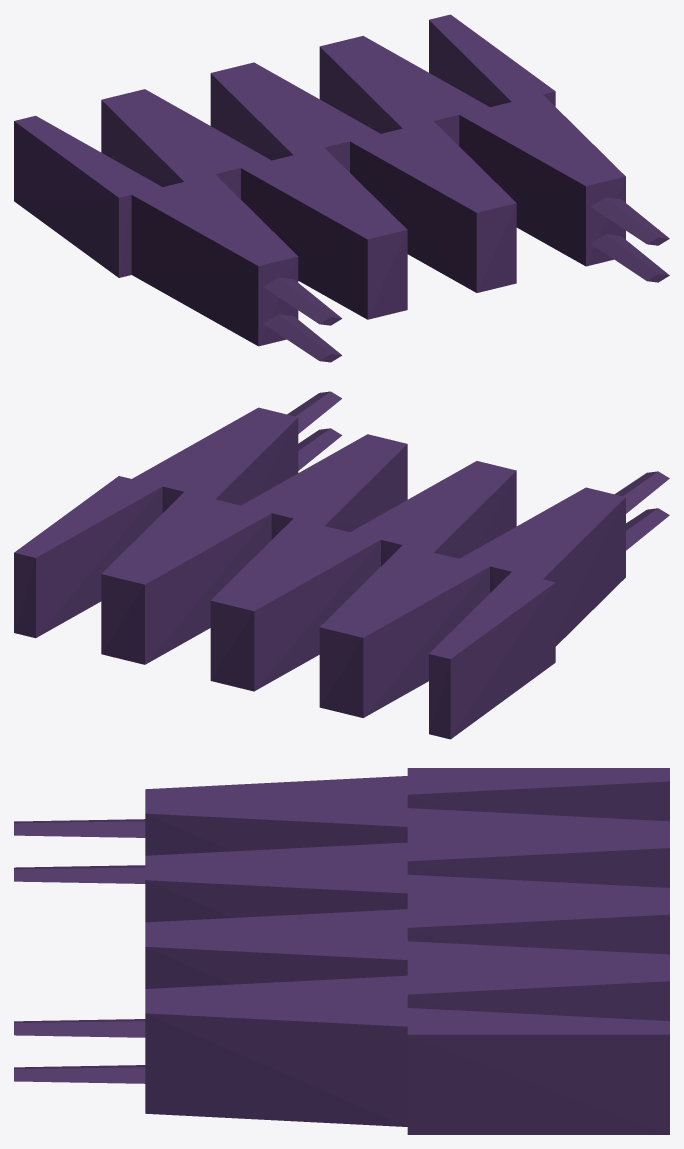
Rendered from scrap-iron-lilac.glb.
3 renders of one model, top to bottom at view 1: azimuth 30°, elevation 25°; view 2: azimuth 150°, elevation 25°; view 3: azimuth 270°, elevation 25°, orthographic. The views are drawn at different scales.
Parts seen in each view (by area): view 1: scrap-iron-lilac; view 2: scrap-iron-lilac; view 3: scrap-iron-lilac.
Boxes of the visible parts, x1,y1,x2,y2 form: scrap-iron-lilac: [14, 14, 669, 362]; scrap-iron-lilac: [14, 391, 669, 739]; scrap-iron-lilac: [14, 768, 669, 1134].
Bounding box in the file's own units: 0.74 × 0.13 × 0.77.
